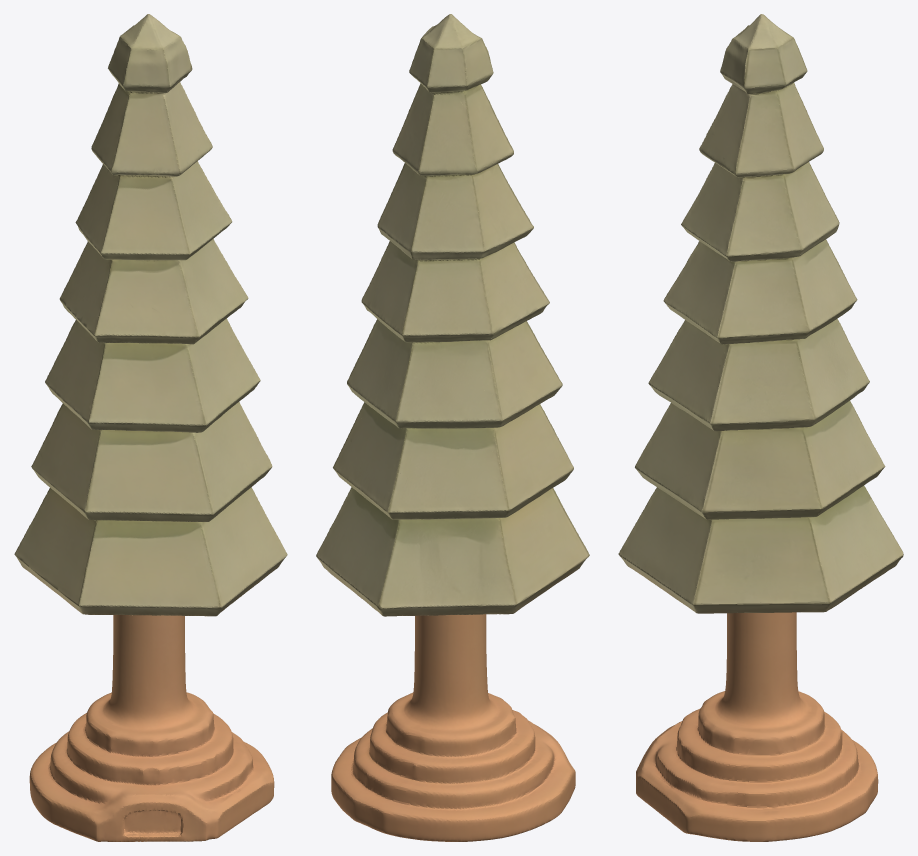
Rendered from a3570dea-fb86-4274-9c93-b486fbef7a33.glb.
3 renders of one model, left to right at view 1: azimuth 30°, elevation 25°; view 2: azimuth 150°, elevation 25°; view 3: azimuth 270°, elevation 25°, orthographic.
Parts seen in each view (by area): view 1: model; view 2: model; view 3: model.
Part boxes in pixels (x1,y1,x2,y2): model: [14, 14, 287, 841]; model: [316, 14, 589, 841]; model: [618, 14, 903, 841].
Bounding box in the file's own units: 0.4797 × 1.71 × 0.5675.
Materials: 1 (1 with a texture image).
